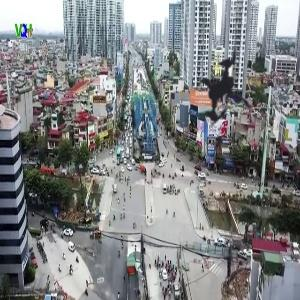drone: (163, 23, 294, 154)
